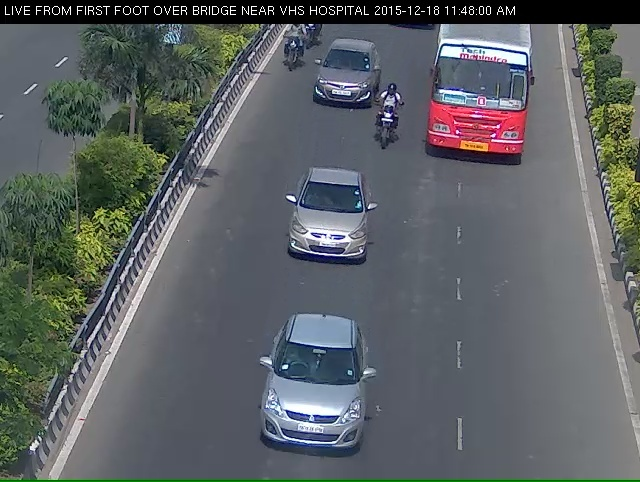Bus: (435, 22, 529, 180)
Car: (258, 334, 375, 475), (280, 177, 372, 281), (316, 44, 373, 115)
Person: (375, 95, 397, 157)
